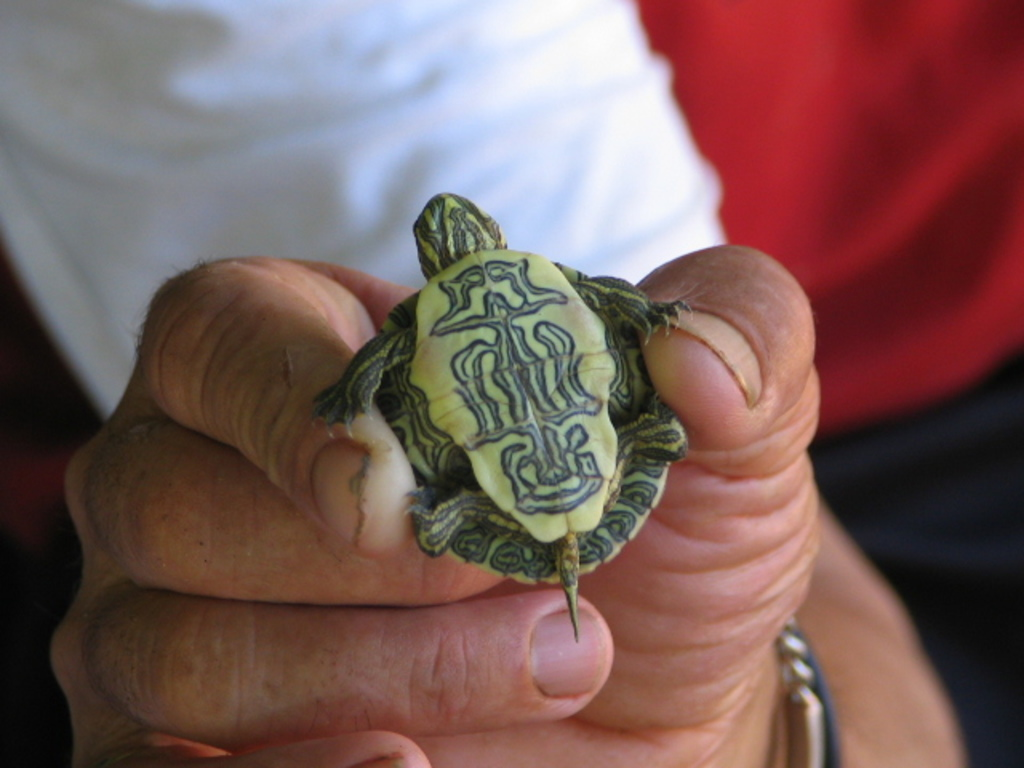Sea turtles: (304, 187, 696, 644)
